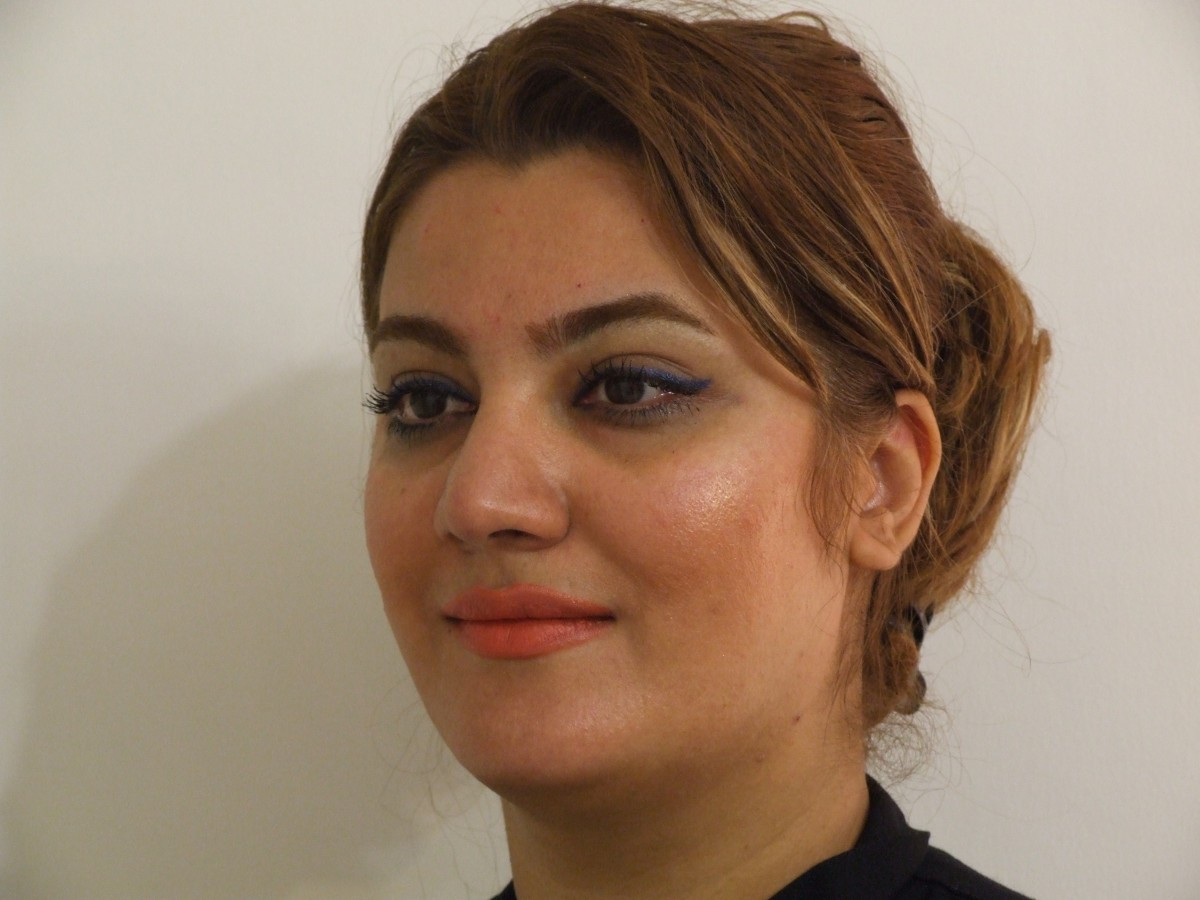neo: (787, 701, 809, 746), (749, 748, 774, 774), (568, 278, 596, 294)
occhiaia: (553, 404, 746, 479)
